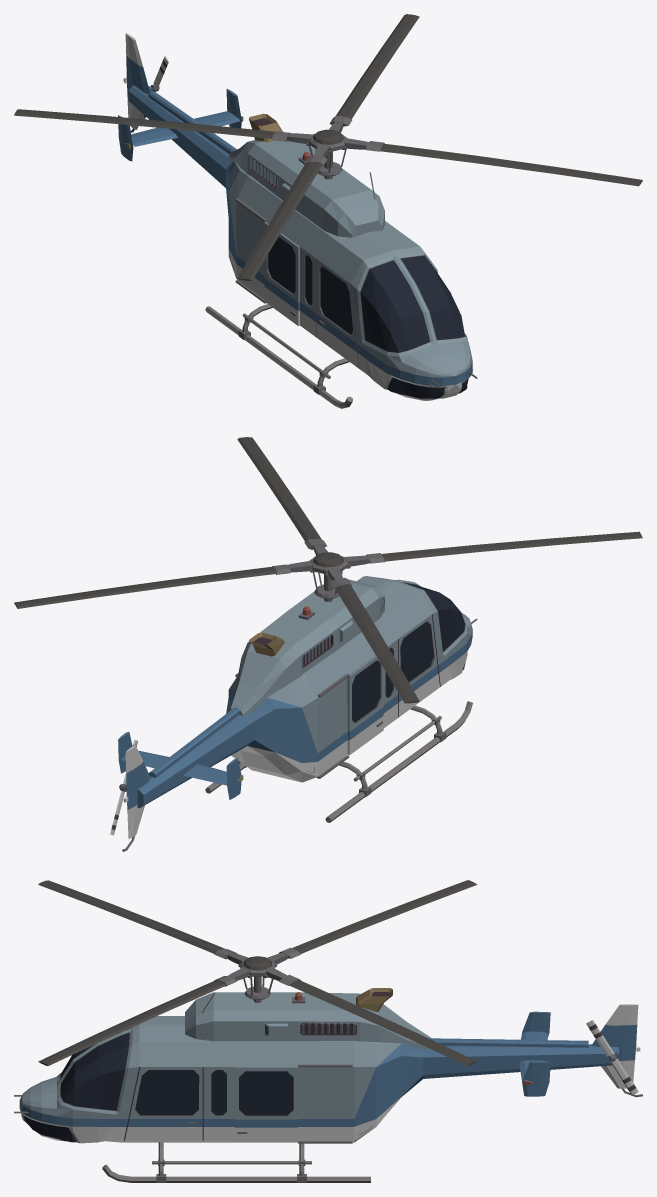
File: helicopter-9d1986.glb
The picture shows the model from 3 angles, top to bottom: view 1: azimuth 30°, elevation 25°; view 2: azimuth 150°, elevation 25°; view 3: azimuth 270°, elevation 25°; orthographic projection. The views are drawn at different scales.
Visible parts, largest first — view 1: airframe, rotor-main, door-right; view 2: airframe, rotor-main, door-right; view 3: airframe, rotor-main, door-left, rotor-tail.
Part boxes in pixels (x1,y1,x2,y2): airframe: (118,33,477,408); rotor-main: (14,14,642,280); door-right: (264,222,299,325); airframe: (118,576,477,851); rotor-main: (14,437,642,703); door-right: (348,656,383,755); airframe: (14,988,642,1182); rotor-main: (38,880,477,1065); door-left: (234,1067,297,1141); rotor-tail: (586,1020,638,1095).
Size of the model in its own units: 7.97 by 3.89 by 11.4.
